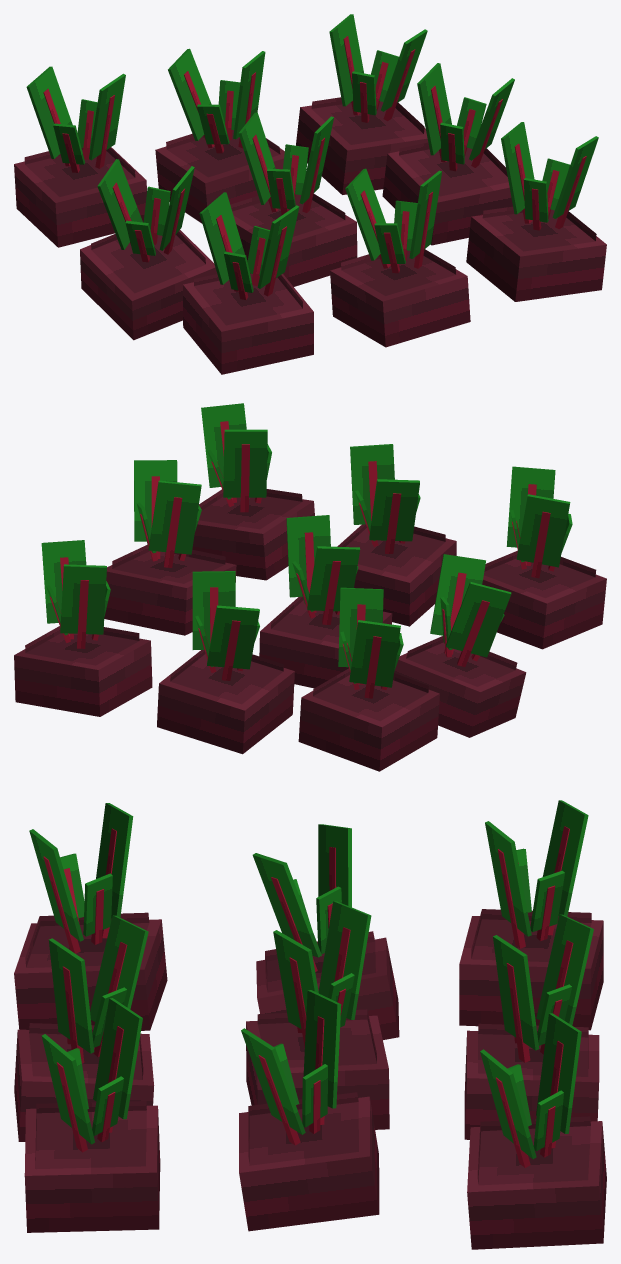
Rendered from Burak.gltf.
3 renders of one model, top to bottom at view 1: azimuth 30°, elevation 25°; view 2: azimuth 150°, elevation 25°; view 3: azimuth 270°, elevation 25°, orthographic. The views are drawn at different scales.
Parts seen in each view (by area): view 1: Root (×9), B Leaf Leaf (×18), Top (×9), S Leaf Leaf (×18); view 2: Root (×9), B Leaf Leaf (×18), Top (×9), B Leaf Stem (×9); view 3: Root (×9), B Leaf Leaf (×18), Top (×9), S Leaf Leaf (×10), B Leaf Stem (×7).
Boxes of the visible parts, <box> form: Root (×9): <box>14,105,606,374</box>; B Leaf Leaf (×18): <box>26,14,598,288</box>; Top (×9): <box>24,97,596,325</box>; S Leaf Leaf (×18): <box>53,50,570,292</box>; Root (×9): <box>14,499,606,771</box>; B Leaf Leaf (×18): <box>41,403,570,687</box>; Top (×9): <box>25,489,596,721</box>; B Leaf Stem (×9): <box>77,444,550,698</box>; Root (×9): <box>14,916,606,1249</box>; B Leaf Leaf (×18): <box>29,800,593,1159</box>; Top (×9): <box>25,909,591,1185</box>; S Leaf Leaf (×10): <box>60,853,571,1151</box>; B Leaf Stem (×7): <box>43,849,530,1167</box>.
Size of the model in its own units: 0.8797 by 0.3684 by 0.8412.
4 materials, 4 textured.
